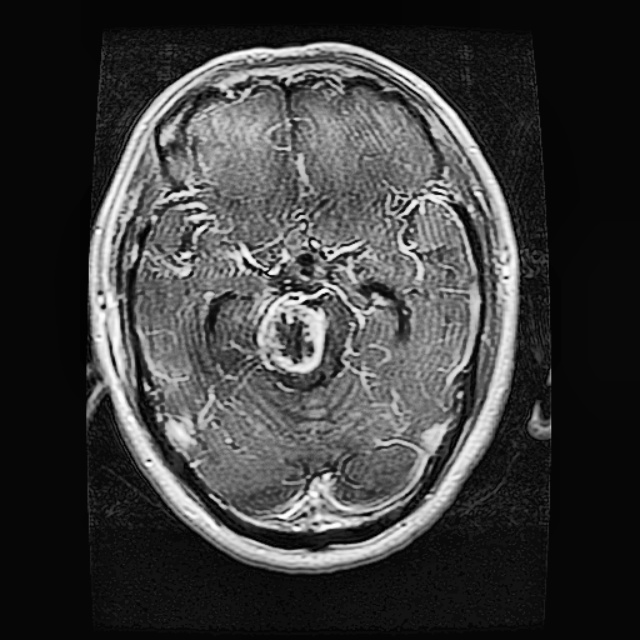Pituitary: (253, 293, 329, 379)
